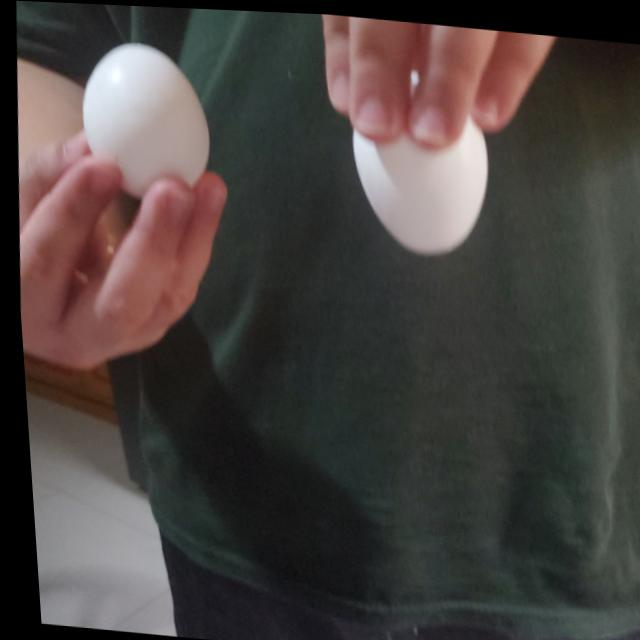egg: (346, 91, 499, 256), (71, 38, 212, 203)
